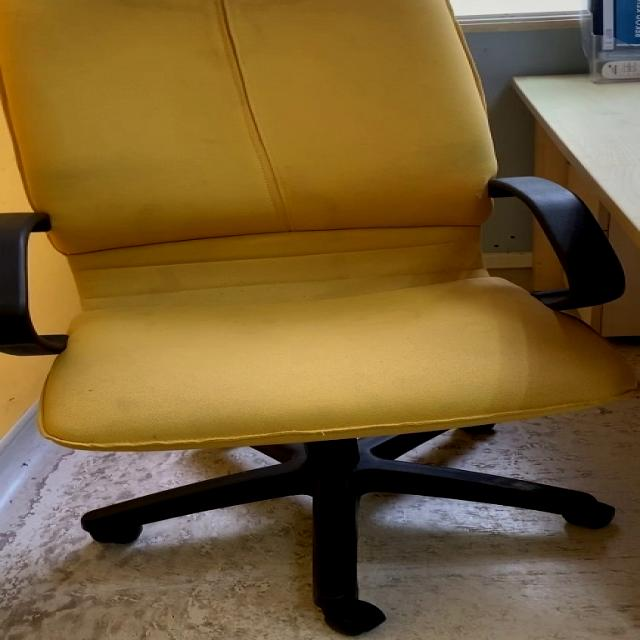Chair: (5, 4, 640, 632)
